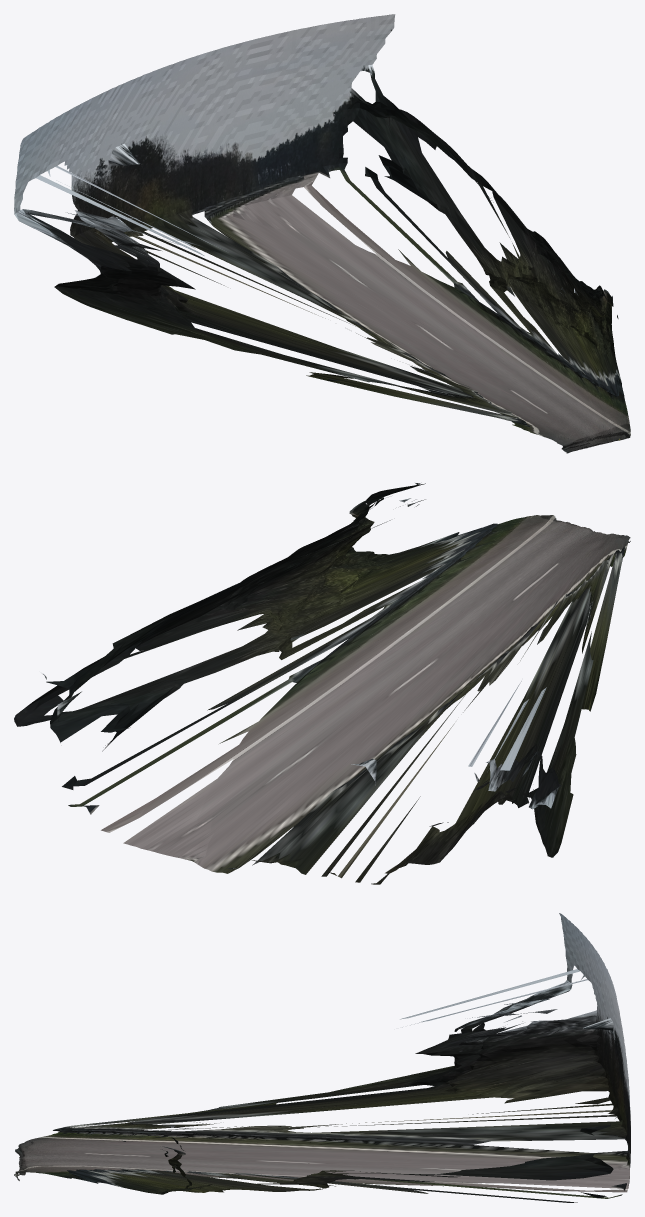
3 renders of one model, top to bottom at view 1: azimuth 30°, elevation 25°; view 2: azimuth 150°, elevation 25°; view 3: azimuth 270°, elevation 25°, orthographic. The views are drawn at different scales.
Visible parts, largest first — view 1: defaultobject; view 2: defaultobject; view 3: defaultobject.
Part boxes in pixels (box(x1,y1,x2,y2)): defaultobject: box(14, 14, 630, 453); defaultobject: box(14, 483, 630, 884); defaultobject: box(14, 913, 630, 1202).
Bounding box in the file's own units: 30.8 × 12.47 × 44.51.
1 material, 1 textured.
